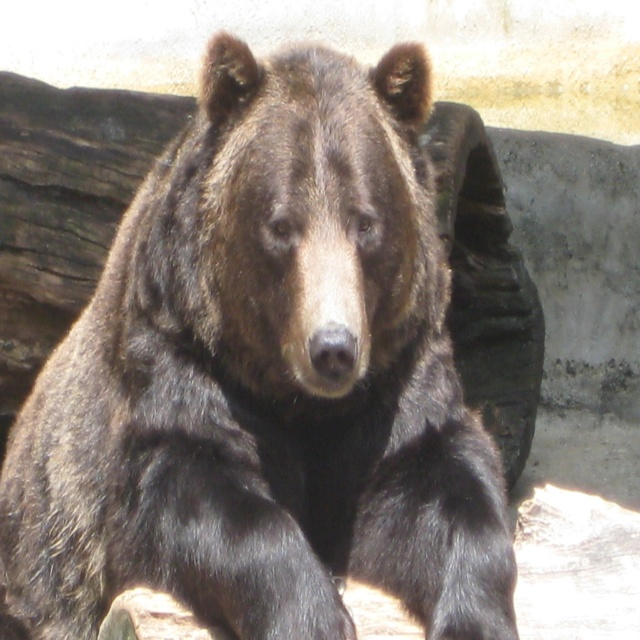Brown bear: (0, 28, 546, 640)
